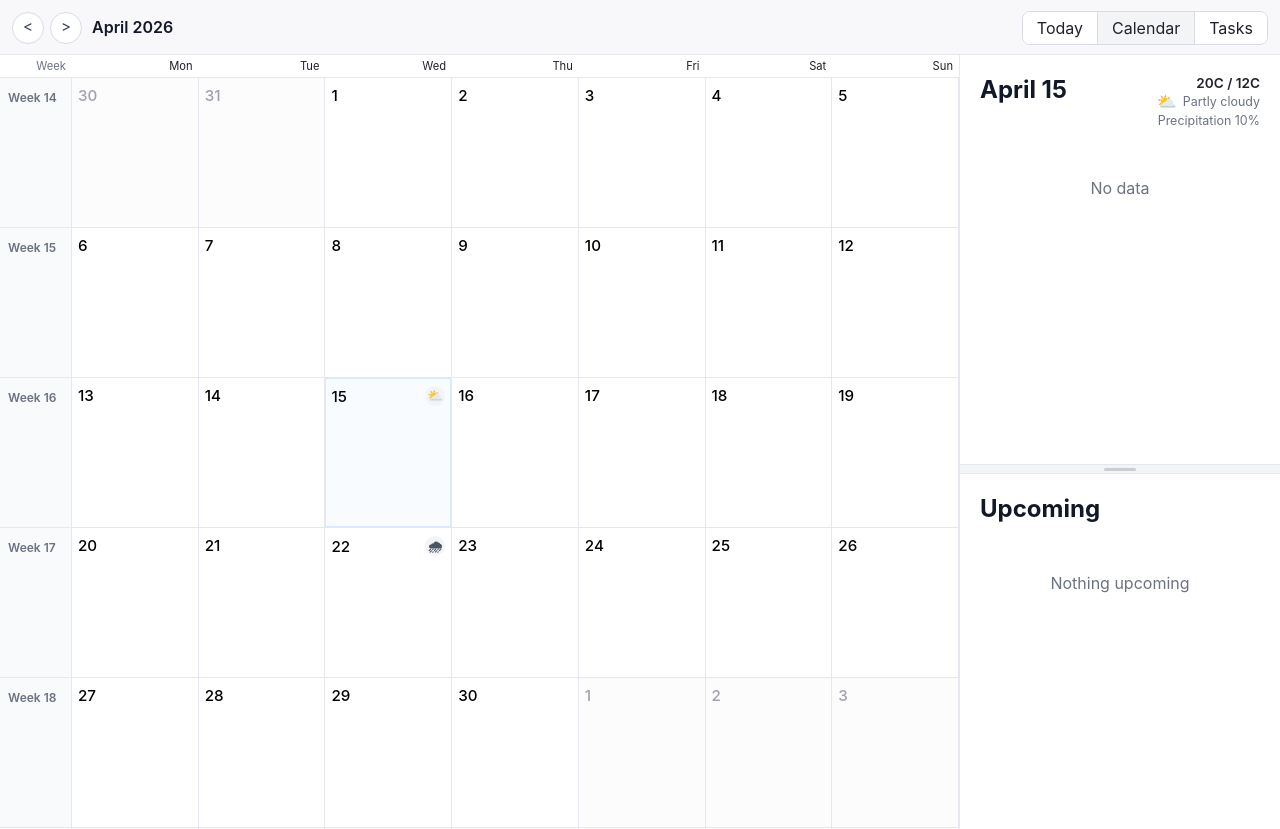
Test: AgendaApp › renders weather in the month grid for today through the next seven days and shows selected-day details
Expected: the number of pictures with class "agenda-day__weather-icon" is 2, [425, 386, 445, 406]; [425, 536, 445, 556]
Expected: the picture "⛅" is shown, [425, 386, 445, 406]
Step 1. Click the button named "Thursday, April 23, 2026" → (515, 603), box [452, 528, 579, 678]
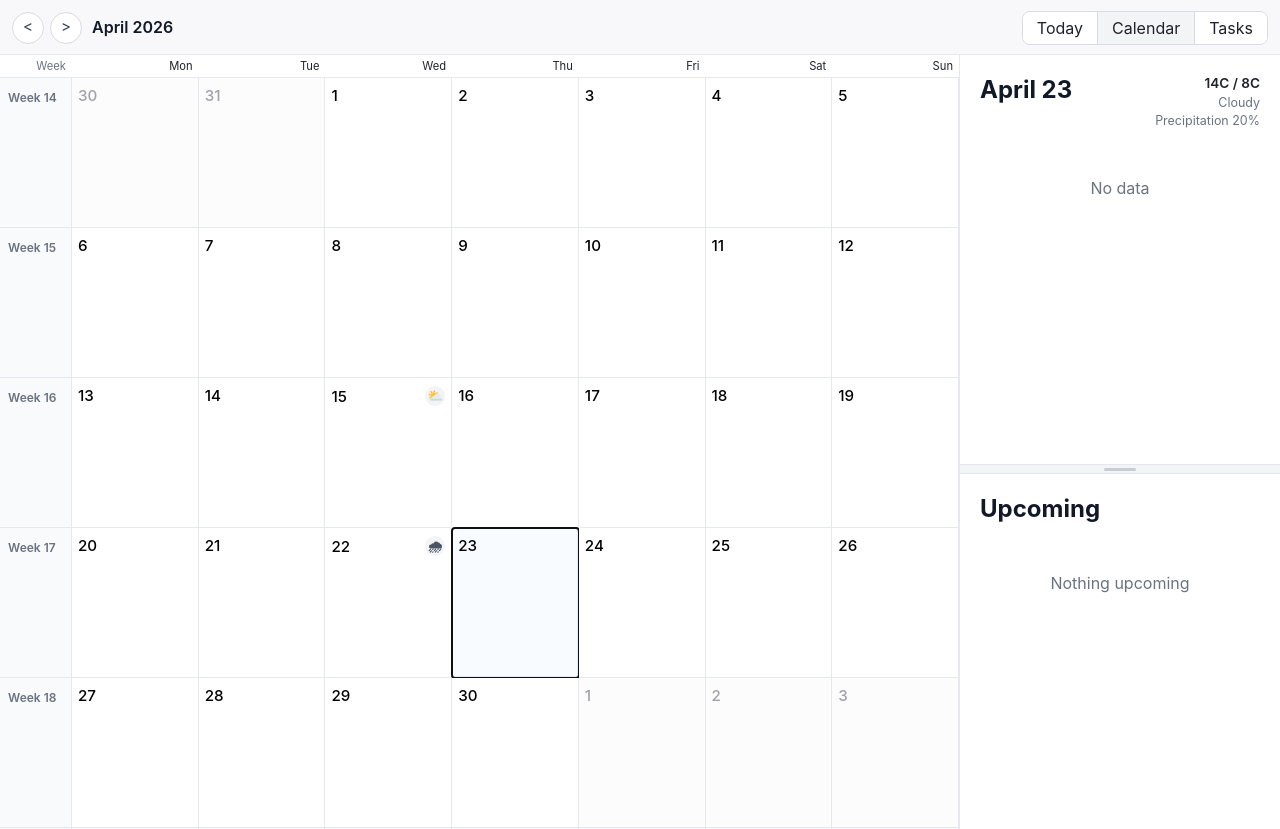
Expected: the heading "April 23" is shown, [980, 75, 1072, 104]
Expected: the text "14C / 8C" is shown, [1204, 75, 1260, 91]
Expected: the icon with class "agenda-sidebar__weather-icon" is gone
Step 2. Click the button named "Friday, April 24, 2026" → (642, 603), box [579, 528, 706, 678]
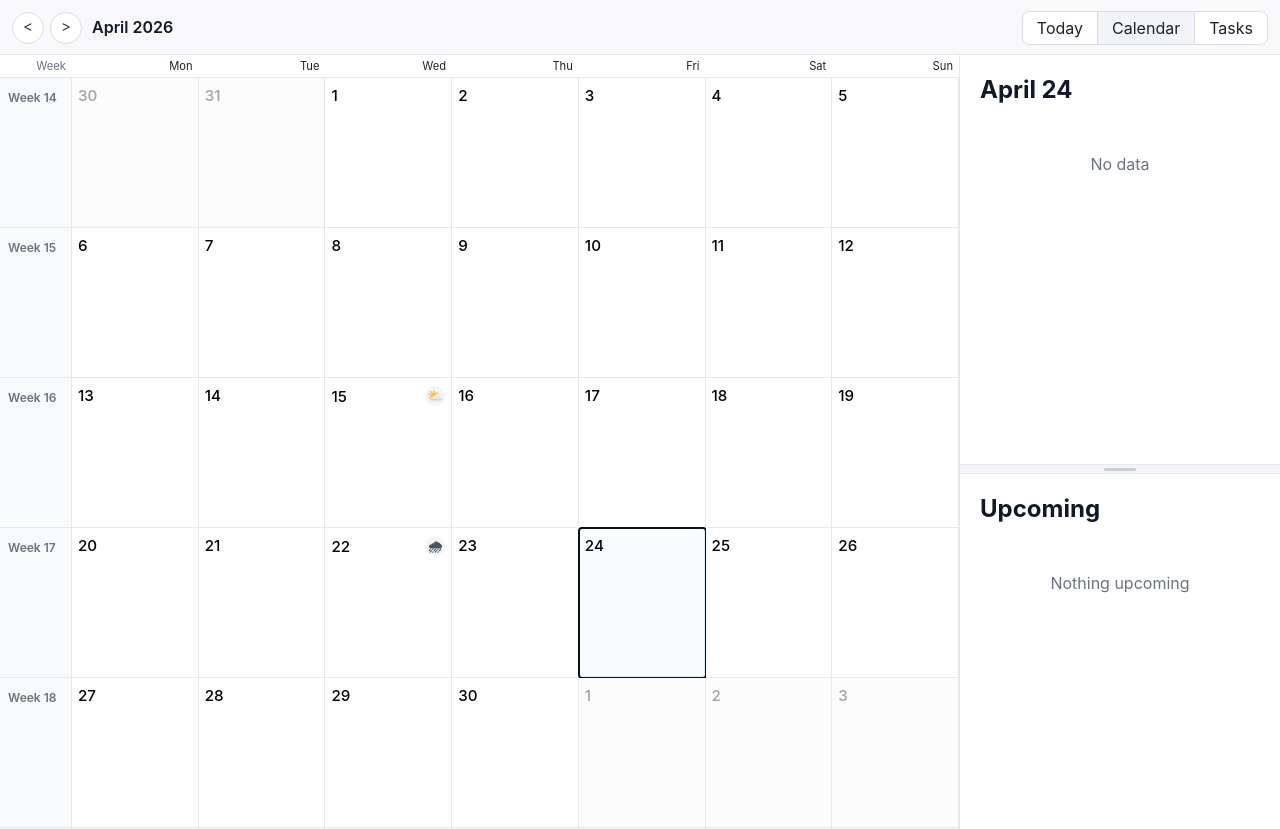
Expected: the heading "April 24" is shown, [980, 75, 1073, 104]
Expected: the text "14C / 8C" is gone
Expected: the text "Cloudy" is gone
